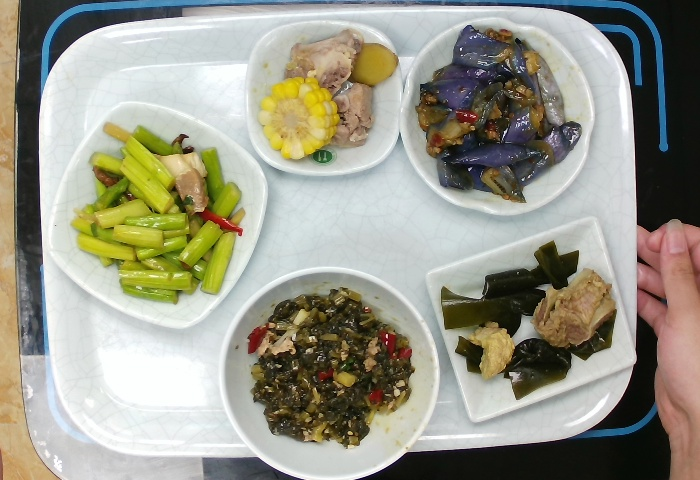JYsf-Ao_Yuan_Wan: (396, 18, 602, 218)
JYsf-Fan_Wan: (213, 260, 441, 480)
JYsf-Si_Fang_Die: (240, 18, 406, 180)
WCQzf-Da_Si_Fang_Die: (45, 97, 274, 331)
WCQzf-Ru_Ci_Si_Fang_Die: (422, 212, 638, 427)
